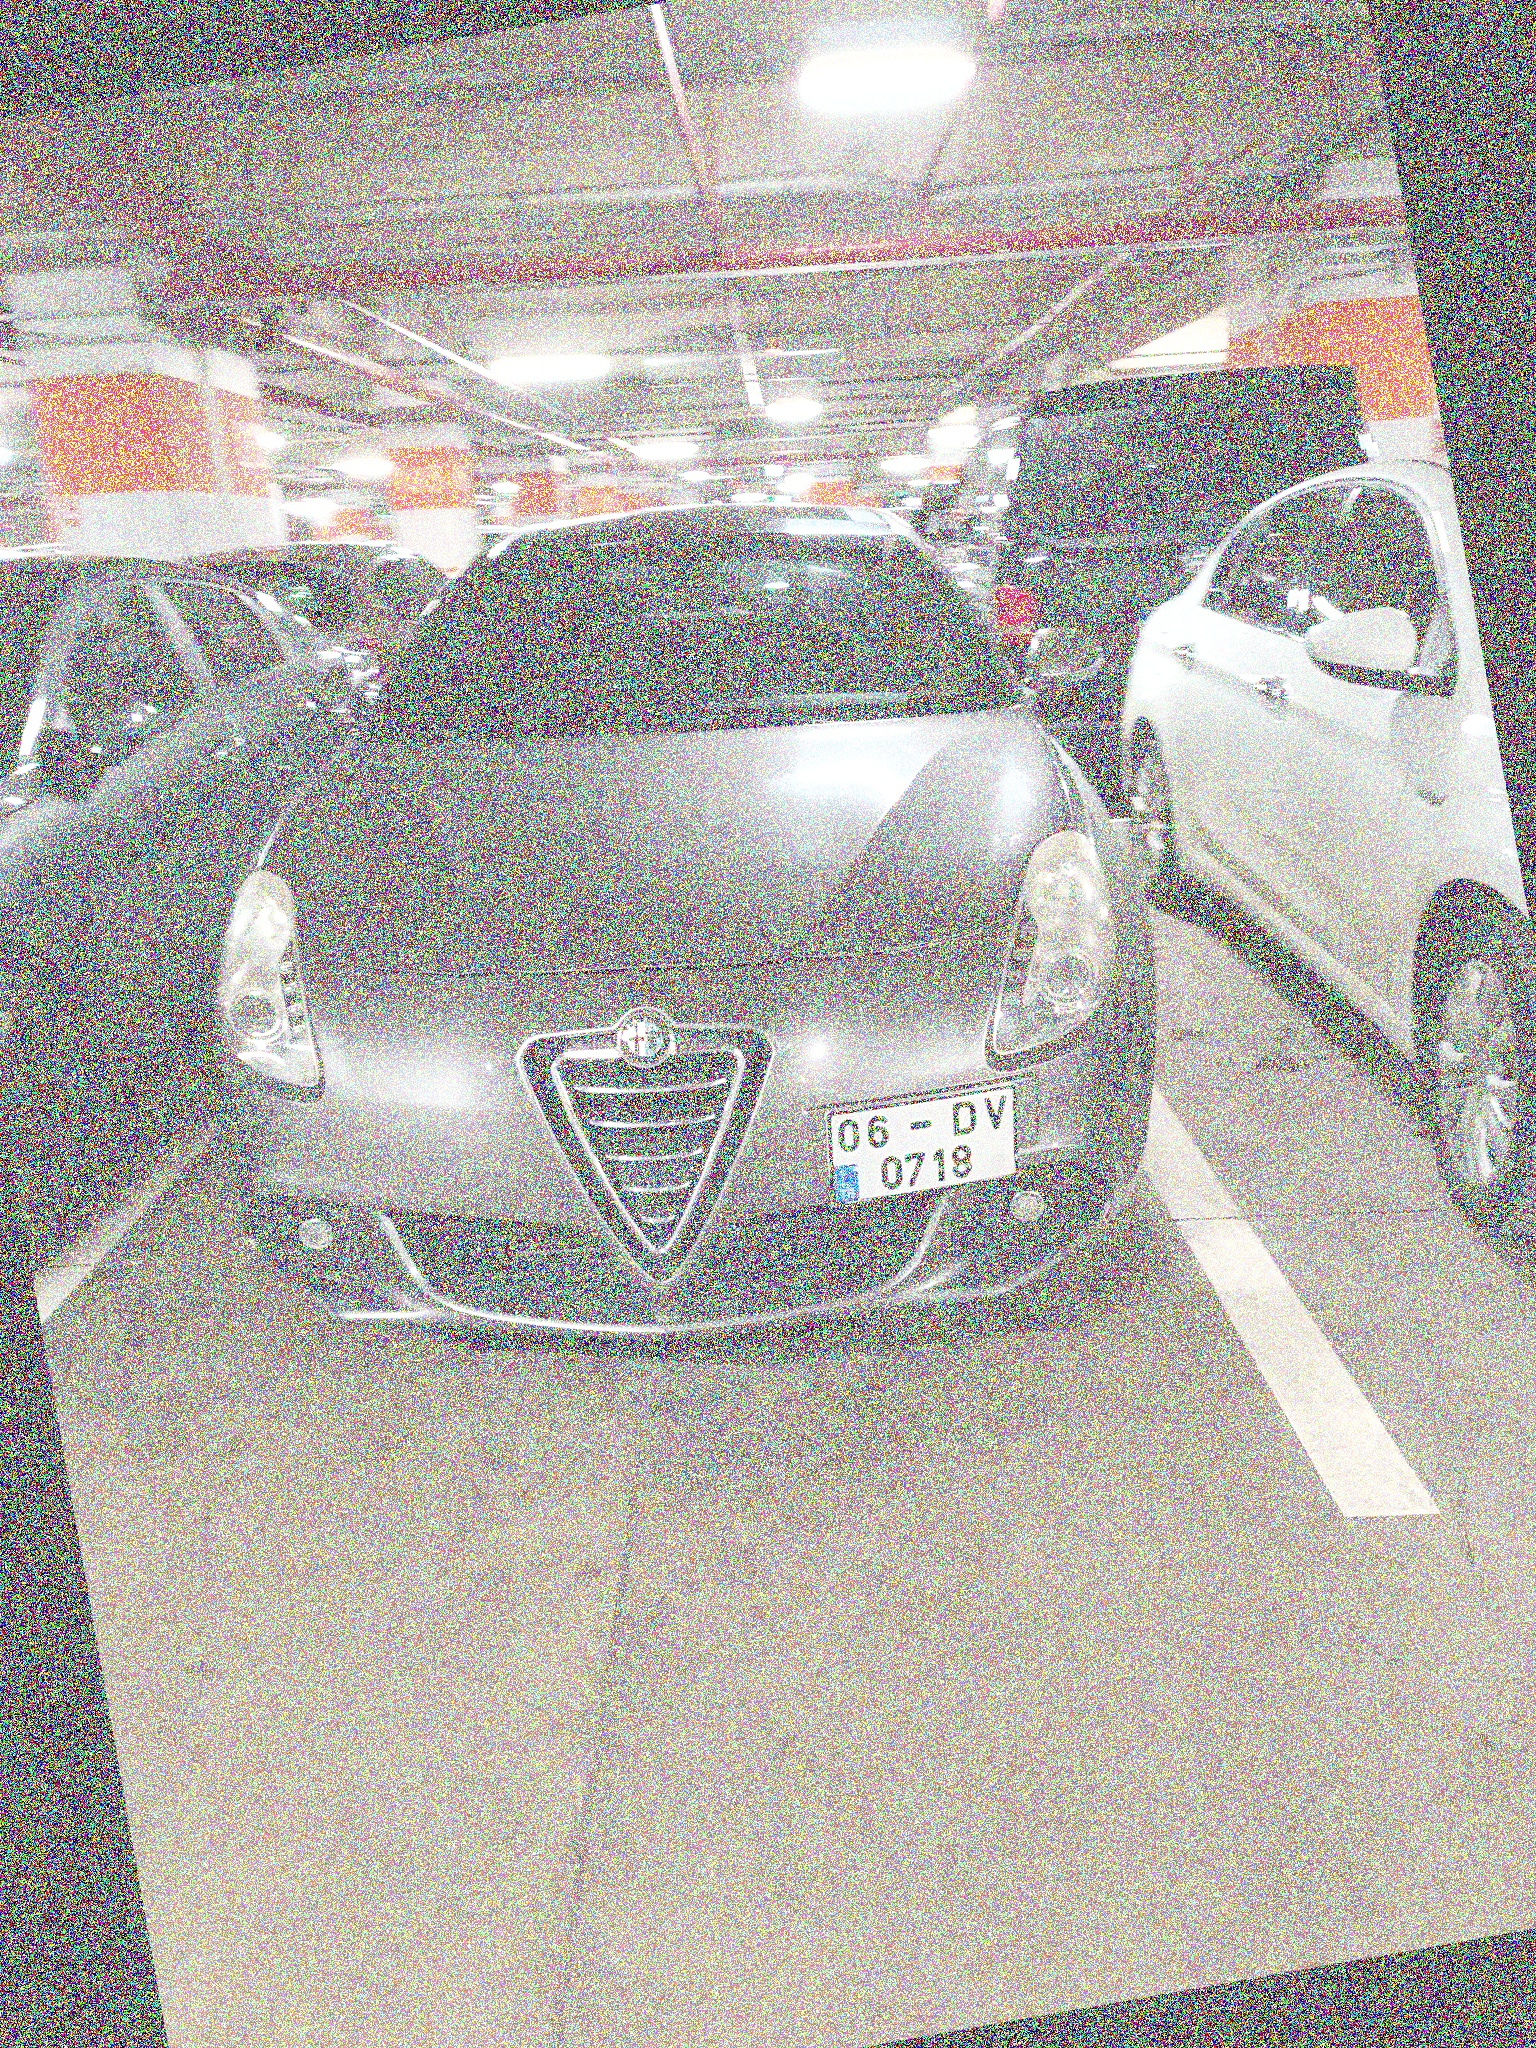plaka: (828, 1088, 1032, 1198)
